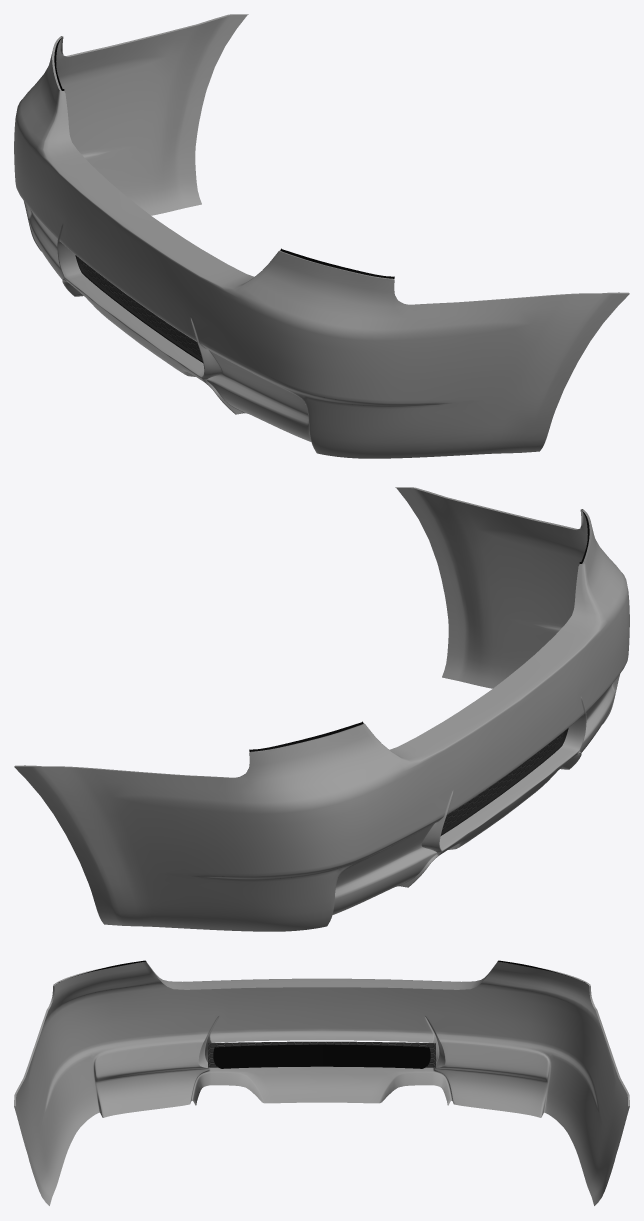
The picture shows the model from 3 angles, top to bottom: view 1: azimuth 30°, elevation 25°; view 2: azimuth 150°, elevation 25°; view 3: azimuth 270°, elevation 25°; orthographic projection. The views are drawn at different scales.
Parts seen in each view (by area): view 1: _4136_17_561G_C__4136_17_561G_C_1_DaS, _4136_17_561G_C__4136_17_561G_C_2_D, _4136_17_561G_C__4136_17_561G_C_1_DaS_E, _4136_17_561G_C__4136_17_561G_C_3_D; view 2: _4136_17_561G_C__4136_17_561G_C_1_DaS, _4136_17_561G_C__4136_17_561G_C_2_D, _4136_17_561G_C__4136_17_561G_C_1_DaS_E, _4136_17_561G_C__4136_17_561G_C_3_D; view 3: _4136_17_561G_C__4136_17_561G_C_1_DaS, _4136_17_561G_C_4_D__4136_17_561G_C, _4136_17_561G_C__4136_17_561G_C_2_D, _4136_17_561G_C__4136_17_561G_C_1_DaS_E.
Part boxes in pixels (<box>): _4136_17_561G_C__4136_17_561G_C_1_DaS: <box>14,15,629,458</box>; _4136_17_561G_C__4136_17_561G_C_2_D: <box>80,259,201,357</box>; _4136_17_561G_C__4136_17_561G_C_1_DaS_E: <box>52,14,629,305</box>; _4136_17_561G_C__4136_17_561G_C_3_D: <box>75,255,203,362</box>; _4136_17_561G_C__4136_17_561G_C_1_DaS: <box>14,488,629,931</box>; _4136_17_561G_C__4136_17_561G_C_2_D: <box>442,732,563,830</box>; _4136_17_561G_C__4136_17_561G_C_1_DaS_E: <box>14,487,591,778</box>; _4136_17_561G_C__4136_17_561G_C_3_D: <box>440,728,568,835</box>; _4136_17_561G_C__4136_17_561G_C_1_DaS: <box>14,961,629,1205</box>; _4136_17_561G_C_4_D__4136_17_561G_C: <box>58,960,585,1068</box>; _4136_17_561G_C__4136_17_561G_C_2_D: <box>208,1041,435,1067</box>; _4136_17_561G_C__4136_17_561G_C_1_DaS_E: <box>14,961,629,1106</box>.
Size of the model in its own units: 84.91 by 53.3 by 177.
